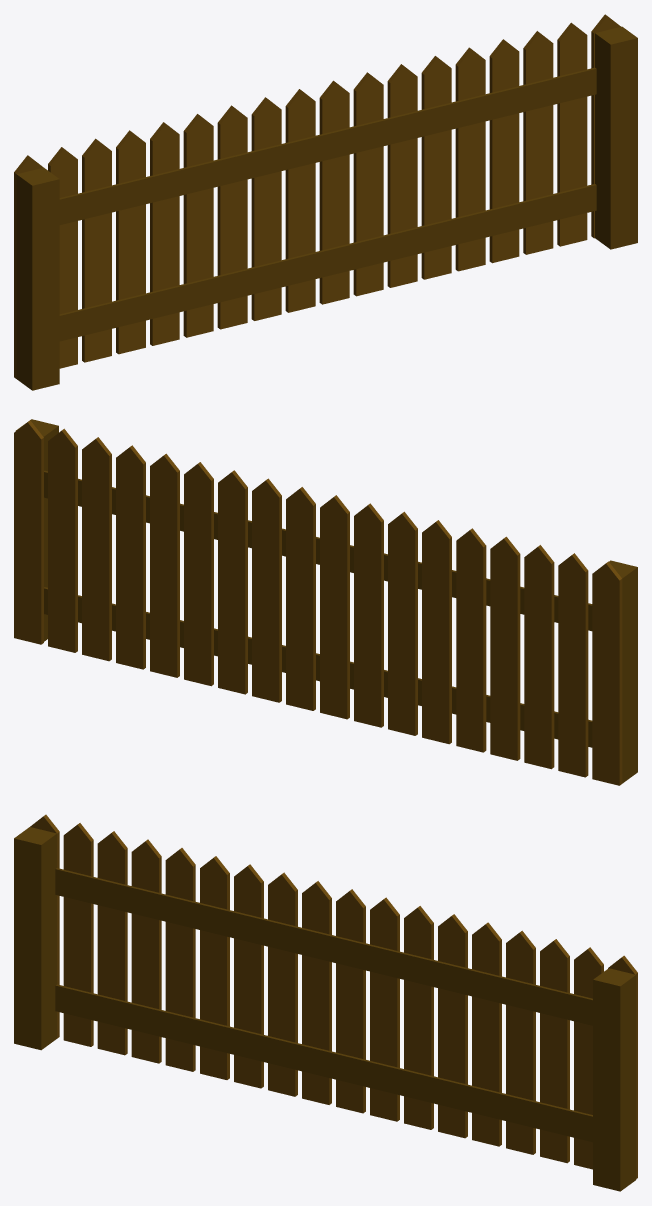
The model's file is lowPolyFenceMainSeg.fbx.
3 renders of one model, top to bottom at view 1: azimuth 30°, elevation 25°; view 2: azimuth 150°, elevation 25°; view 3: azimuth 330°, elevation 25°, orthographic.
Visible parts, largest first — view 1: Cube.002, Cube.004, Cube.003, Cube, Cube.001; view 2: Cube.002, Cube, Cube.004, Cube.003, Cube.001; view 3: Cube.002, Cube.004, Cube.003, Cube.001, Cube.
Boxes of the visible parts, x1,y1,x2,y2 form: Cube.002: [14, 14, 620, 378]; Cube.004: [59, 184, 596, 341]; Cube.003: [59, 67, 596, 224]; Cube: [16, 167, 59, 390]; Cube.001: [595, 26, 637, 249]; Cube.002: [14, 420, 622, 785]; Cube: [609, 560, 637, 783]; Cube.004: [44, 587, 592, 747]; Cube.003: [44, 470, 592, 631]; Cube.001: [16, 419, 58, 641]; Cube.002: [30, 814, 637, 1178]; Cube.004: [55, 984, 592, 1142]; Cube.003: [55, 868, 592, 1025]; Cube.001: [593, 968, 636, 1191]; Cube: [14, 827, 56, 1050].
Size of the model in its own units: 9.99 by 0.5264 by 3.45.
